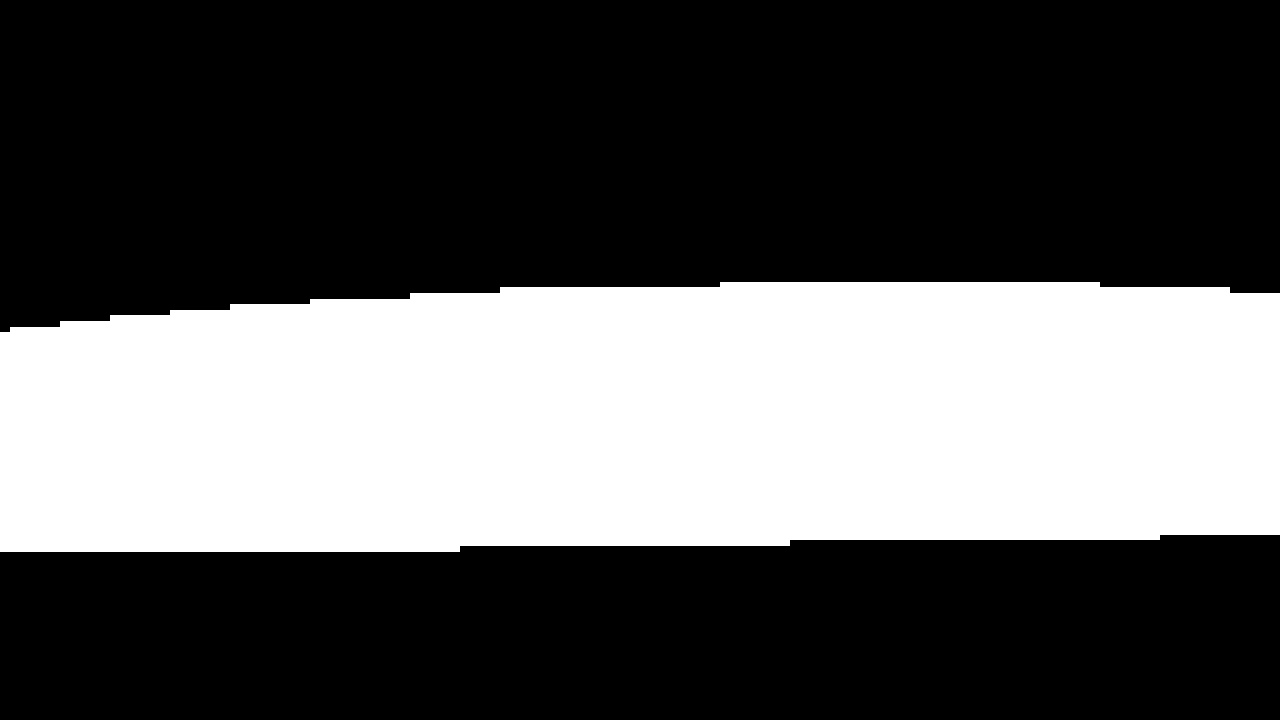Turbine: (5, 271, 1271, 563)
